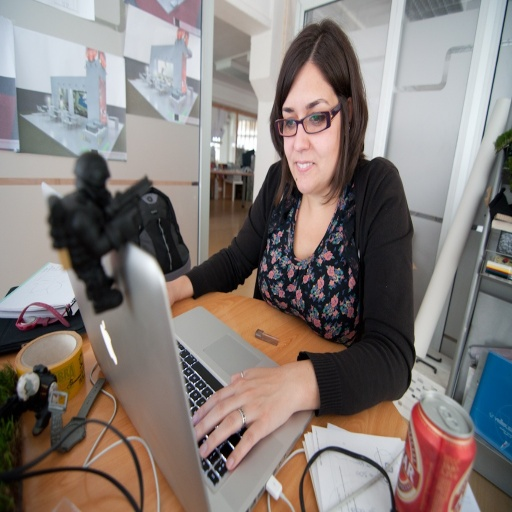hand: (205, 359, 326, 461), (163, 278, 175, 307)
